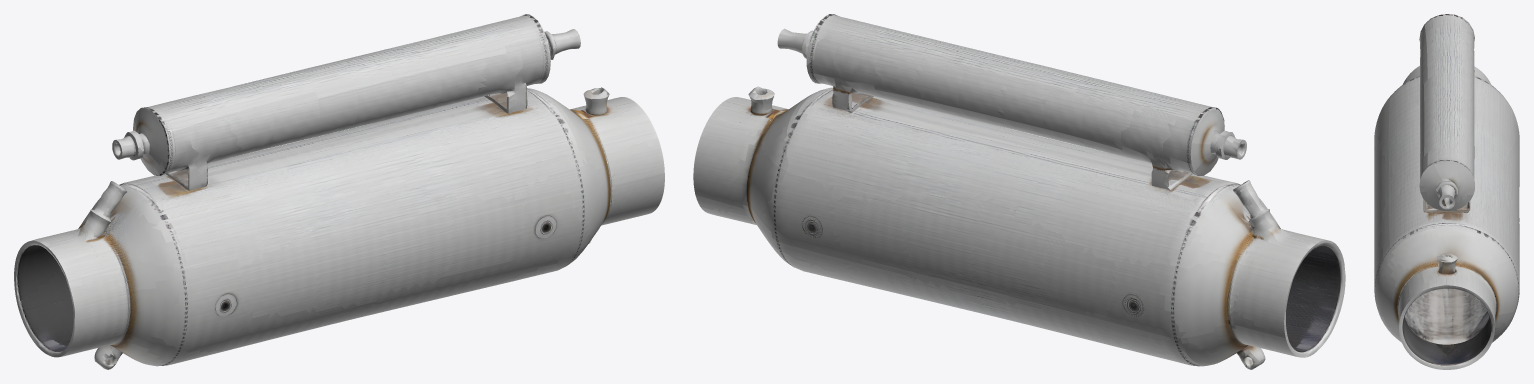
The model's file is nox-catalyst.glb.
3 renders of one model, left to right at view 1: azimuth 30°, elevation 25°; view 2: azimuth 150°, elevation 25°; view 3: azimuth 270°, elevation 25°, orthographic. The views are drawn at different scales.
Bounding box in the file's own units: 1.9 × 0.7622 × 0.5155.
1 material, 1 textured.
